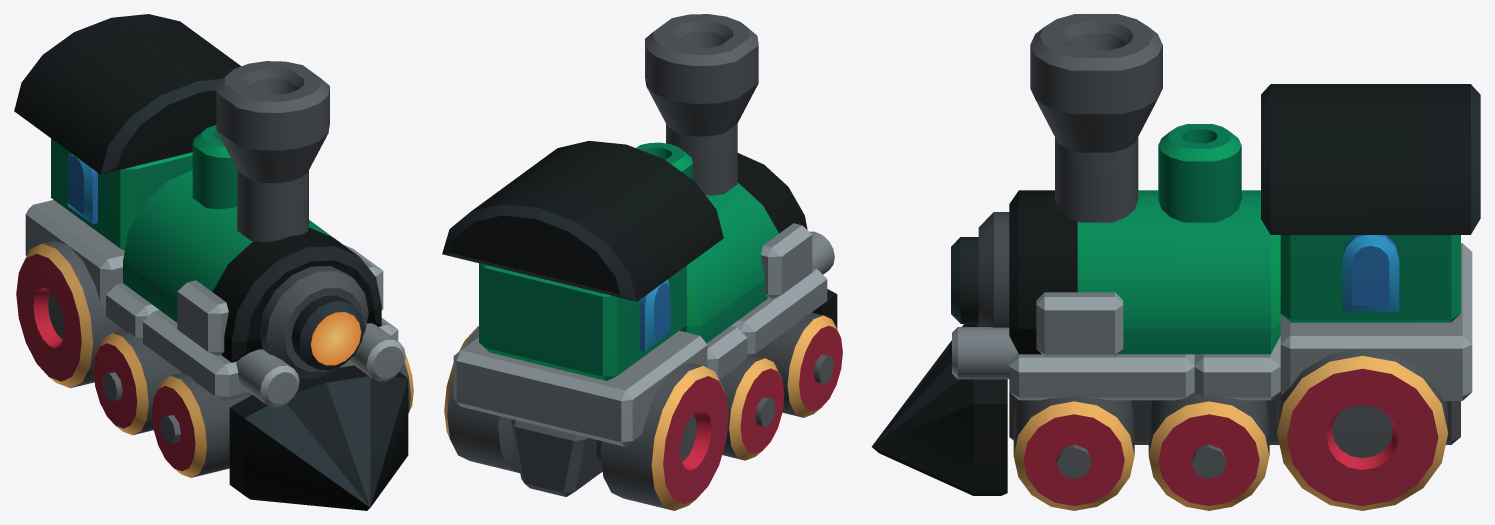
The model's file is lok.glb.
3 renders of one model, left to right at view 1: azimuth 30°, elevation 25°; view 2: azimuth 150°, elevation 25°; view 3: azimuth 270°, elevation 25°, orthographic. The views are drawn at different scales.
Parts seen in each view (by area): view 1: train_locomotive; view 2: train_locomotive; view 3: train_locomotive.
Part boxes in pixels (left/top/right/bottom): train_locomotive: left=14, top=14, right=413, bottom=510; train_locomotive: left=442, top=14, right=842, bottom=510; train_locomotive: left=871, top=14, right=1480, bottom=510.
Bounding box in the file's own units: 0.4324 × 0.6487 × 0.8578.
2 materials, 2 textured.
